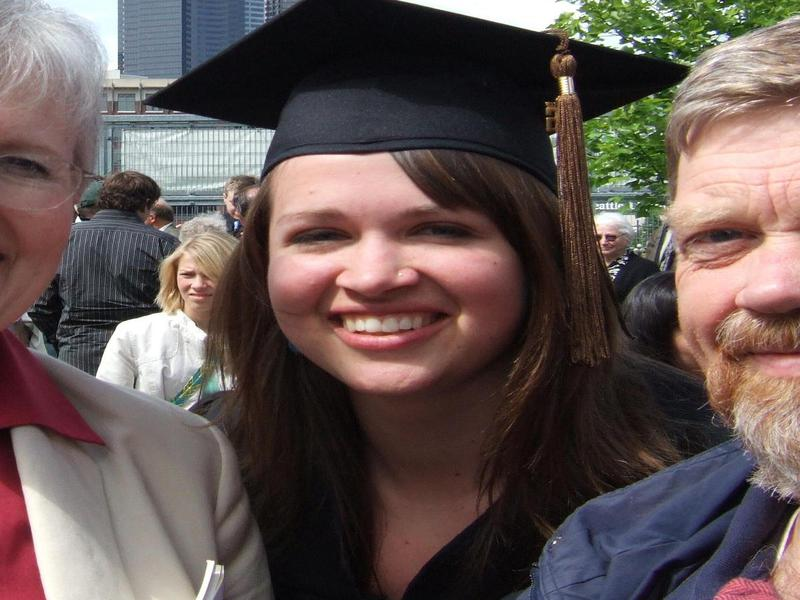person: (134, 1, 721, 600), (1, 1, 270, 600), (526, 15, 800, 600)
